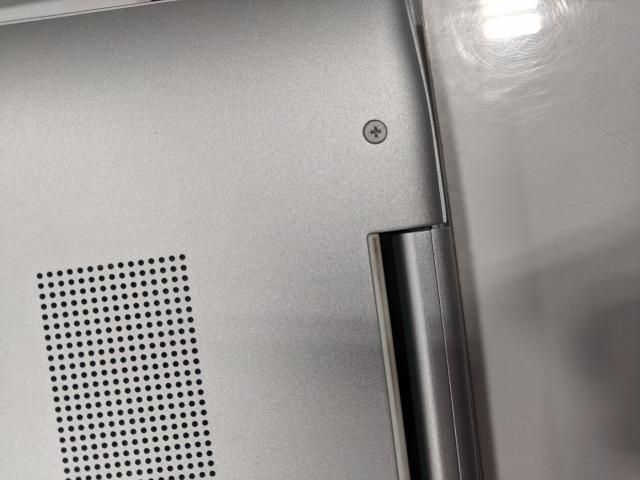CRS: (364, 118, 387, 145)
